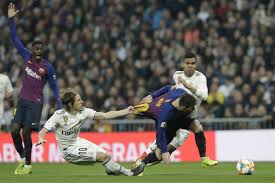barcelona: (3, 2, 60, 174), (137, 88, 217, 174)
realmadrid: (35, 89, 140, 178), (173, 56, 211, 145)
